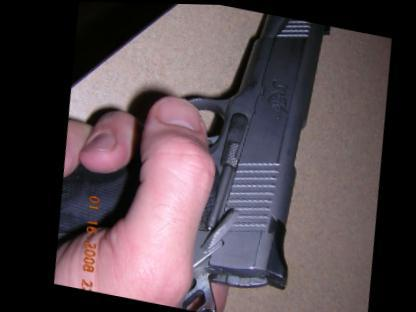pistol: (28, 0, 356, 311)
